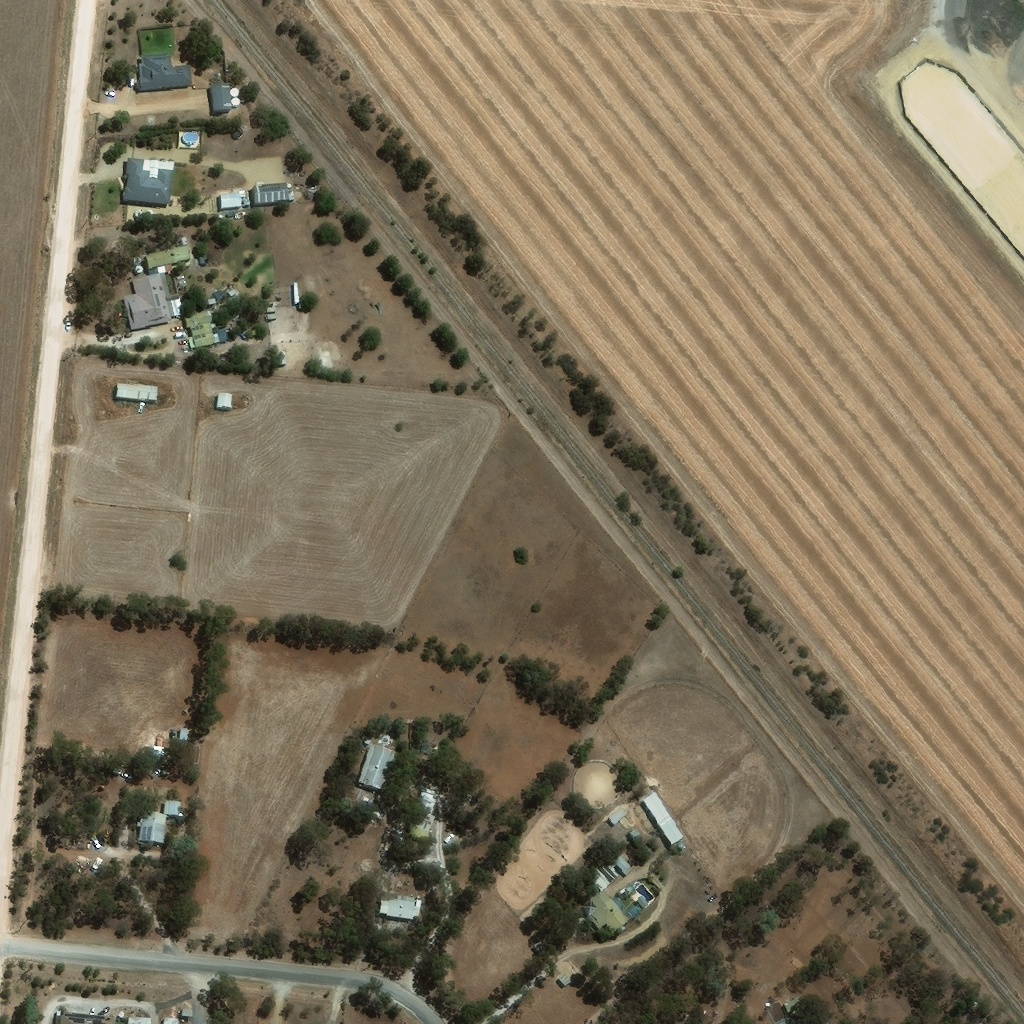0 no-damage: (122, 270, 181, 329), (643, 791, 686, 845), (122, 158, 173, 203), (135, 54, 194, 89), (140, 798, 185, 843), (184, 307, 233, 347), (358, 744, 398, 790), (591, 886, 630, 931), (591, 848, 634, 887), (145, 244, 194, 274), (413, 792, 439, 838), (381, 892, 424, 917), (252, 182, 289, 206), (116, 382, 158, 402), (210, 83, 233, 113), (219, 191, 247, 208), (609, 804, 628, 823), (132, 254, 146, 273), (217, 392, 233, 408), (559, 968, 573, 984), (273, 350, 285, 365), (211, 288, 225, 300), (223, 284, 237, 296), (153, 745, 166, 757), (293, 281, 300, 303), (445, 828, 457, 840), (180, 725, 189, 739), (135, 206, 146, 217), (631, 826, 641, 838), (145, 207, 156, 217), (232, 95, 242, 106), (231, 86, 241, 95), (207, 297, 217, 306), (364, 792, 375, 800), (243, 197, 252, 206), (200, 254, 208, 263)
4 un-classified: (776, 994, 818, 1023), (56, 1010, 116, 1023), (688, 873, 708, 891), (128, 1012, 152, 1023), (195, 86, 211, 94), (182, 1007, 194, 1017), (163, 1016, 179, 1023), (130, 374, 143, 382), (120, 1007, 128, 1016)
